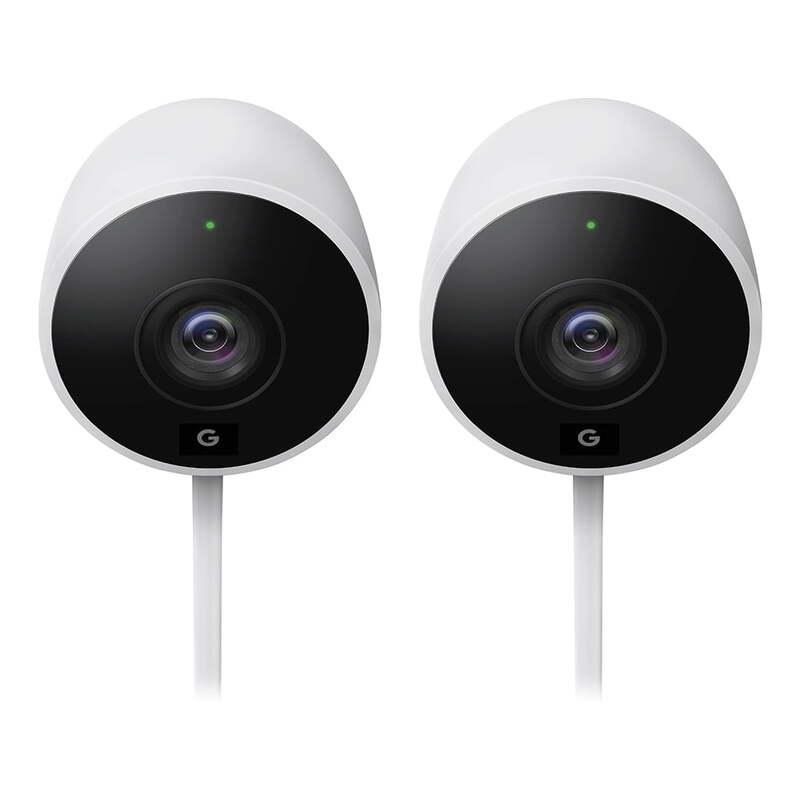nest: (410, 92, 767, 480), (29, 99, 391, 480)
